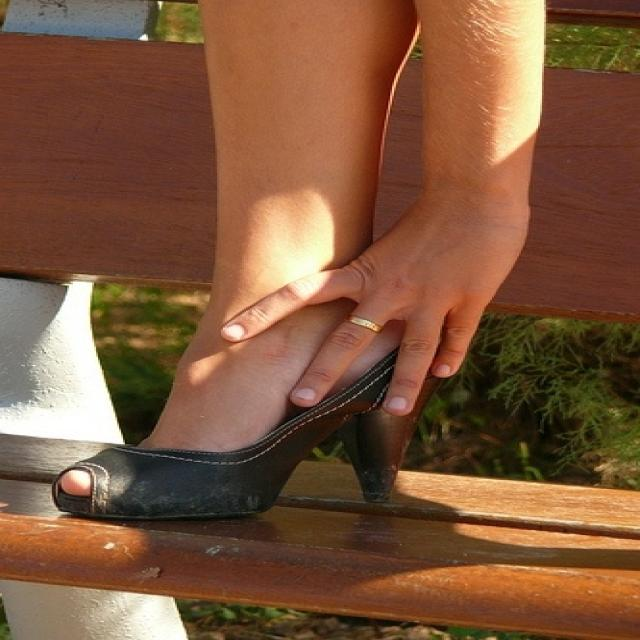piel: (128, 0, 545, 451), (53, 465, 96, 495)
